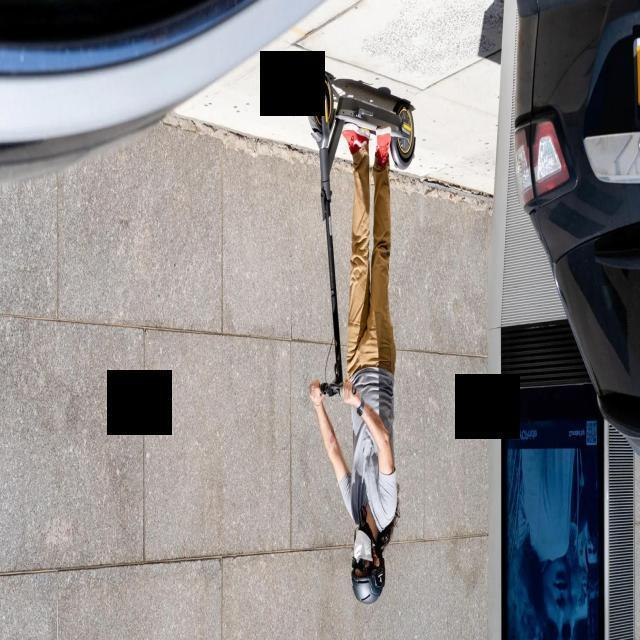helmet: (338, 558, 399, 615)
